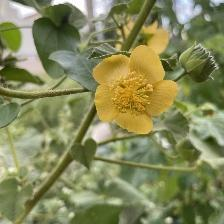indian mallow: (92, 45, 184, 138)
